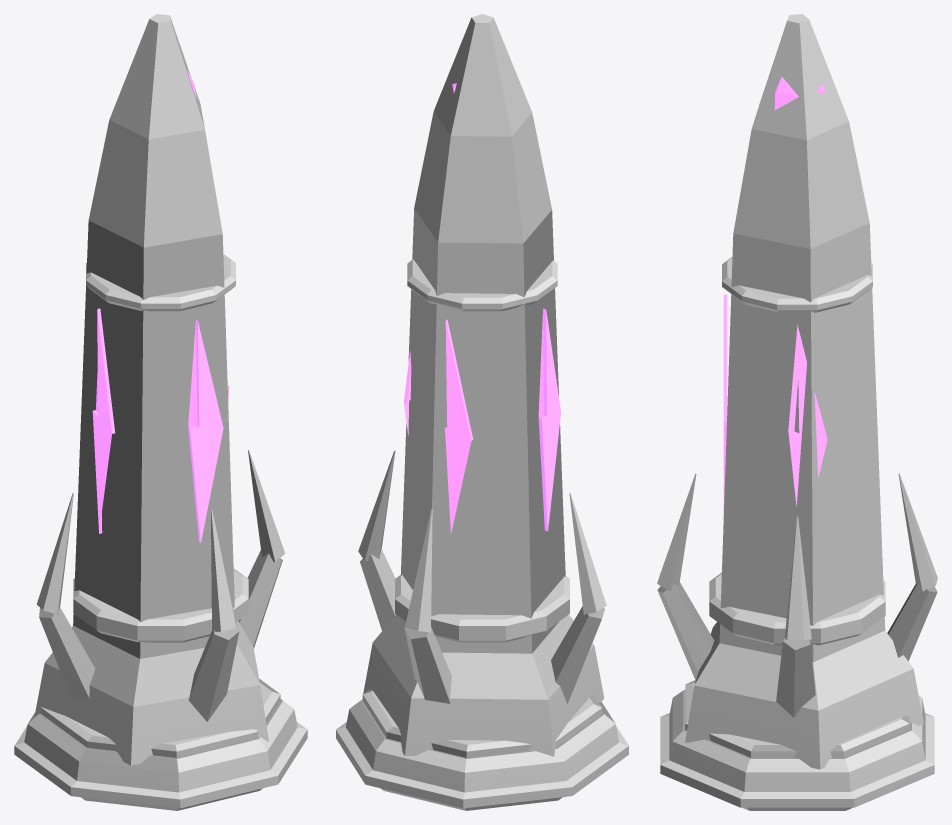
The model's file is doom.glb.
3 renders of one model, left to right at view 1: azimuth 30°, elevation 25°; view 2: azimuth 150°, elevation 25°; view 3: azimuth 270°, elevation 25°, orthographic.
Parts seen in each view (by area): view 1: doom.001; view 2: doom.001; view 3: doom.001.
Boxes of the visible parts, <box> form: doom.001: <box>14,14,307,810</box>; doom.001: <box>336,14,628,810</box>; doom.001: <box>657,14,937,810</box>.
Size of the model in its own units: 1.08 by 3.15 by 1.08.
